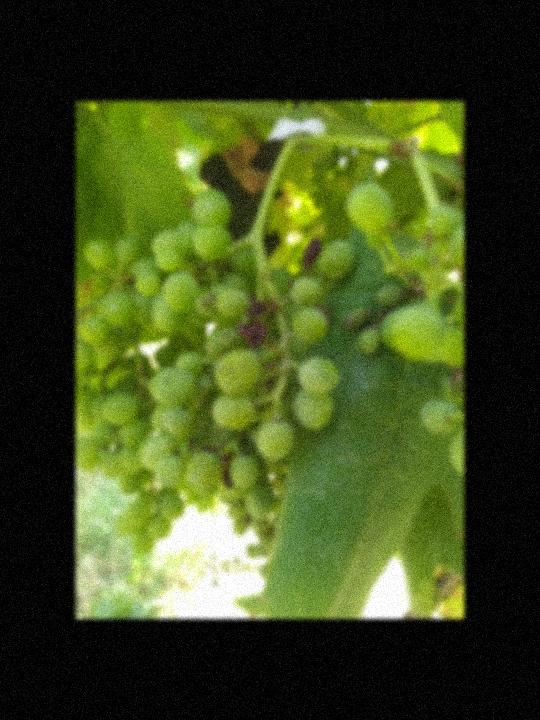grape: (147, 186, 356, 523)
